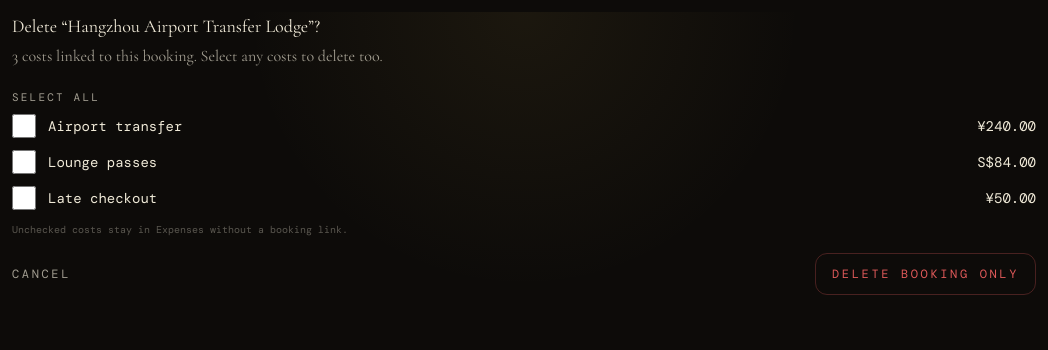
BookingDeleteReview › lists mixed currencies side by side instead of summing across them
Step 1. Click the checkbox labelled "Airport transfer ¥240.00" → click(24, 126), box x1=12 y1=114 x2=36 y2=138
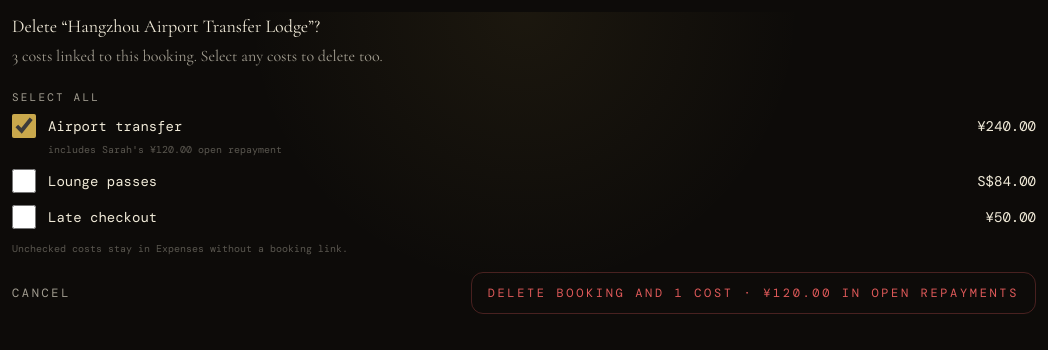
Step 2. Click the checkbox labelled "Lounge passes S$84.00" → click(24, 180), box x1=12 y1=168 x2=36 y2=192
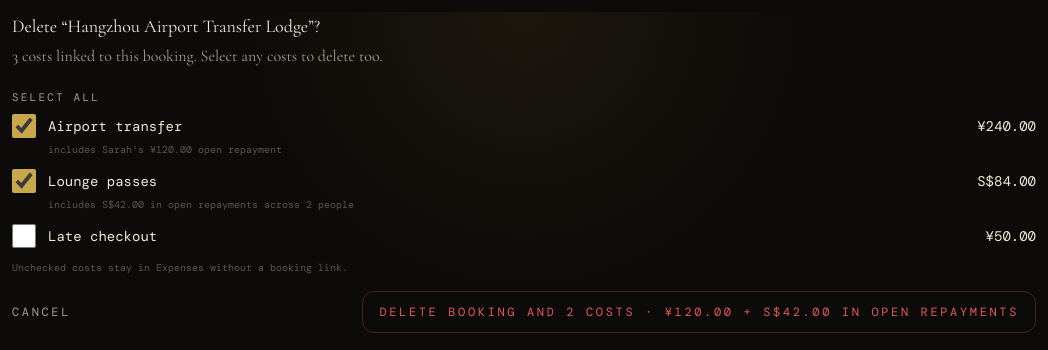
Expected: the button "Delete booking" reads "Delete booking and 2 costs · ¥120.00 + S$42.00 in open repayments", x1=362 y1=290 x2=1036 y2=332
